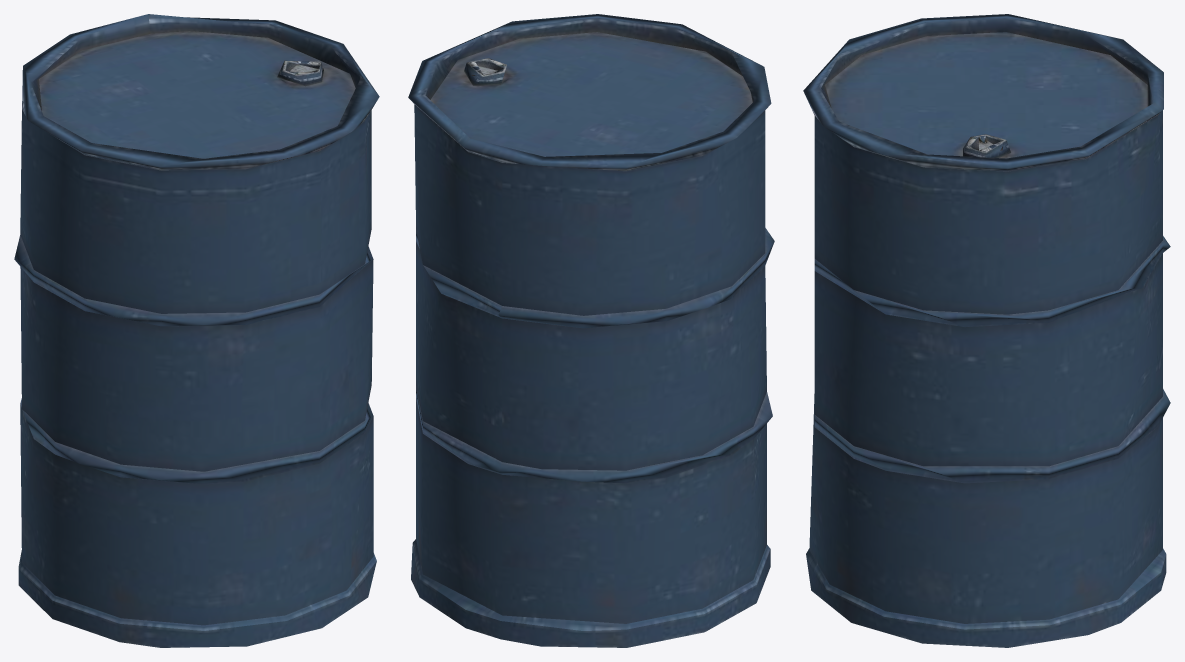
Rendered from barrel_03.glb.
3 renders of one model, left to right at view 1: azimuth 30°, elevation 25°; view 2: azimuth 150°, elevation 25°; view 3: azimuth 270°, elevation 25°, orthographic.
Visible parts, largest first — view 1: barrel_03; view 2: barrel_03; view 3: barrel_03.
Boxes of the visible parts, x1,y1,x2,y2 form: barrel_03: (14,14,379,647); barrel_03: (408,14,774,647); barrel_03: (803,14,1170,647).
Bounding box in the file's own units: 0.6285 × 0.9305 × 0.6359.
Materials: 1 (1 with a texture image).
